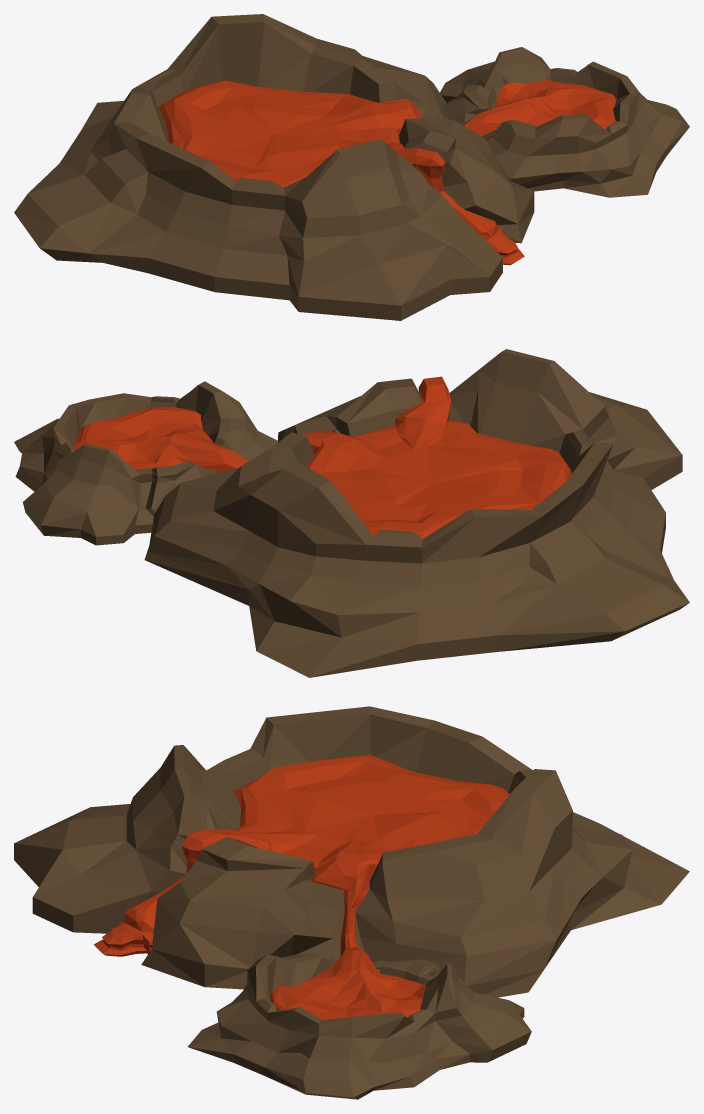
The model's file is magma stone-double 1.FBX.
3 renders of one model, top to bottom at view 1: azimuth 30°, elevation 25°; view 2: azimuth 150°, elevation 25°; view 3: azimuth 270°, elevation 25°, orthographic. The views are drawn at different scales.
Visible parts, largest first — view 1: polySurface3; view 2: polySurface3; view 3: polySurface3.
Part boxes in pixels (x1,y1,x2,y2): polySurface3: (14, 14, 689, 320); polySurface3: (14, 349, 689, 677); polySurface3: (14, 706, 689, 1099).
Bounding box in the file's own units: 10.73 × 2 × 9.07.
